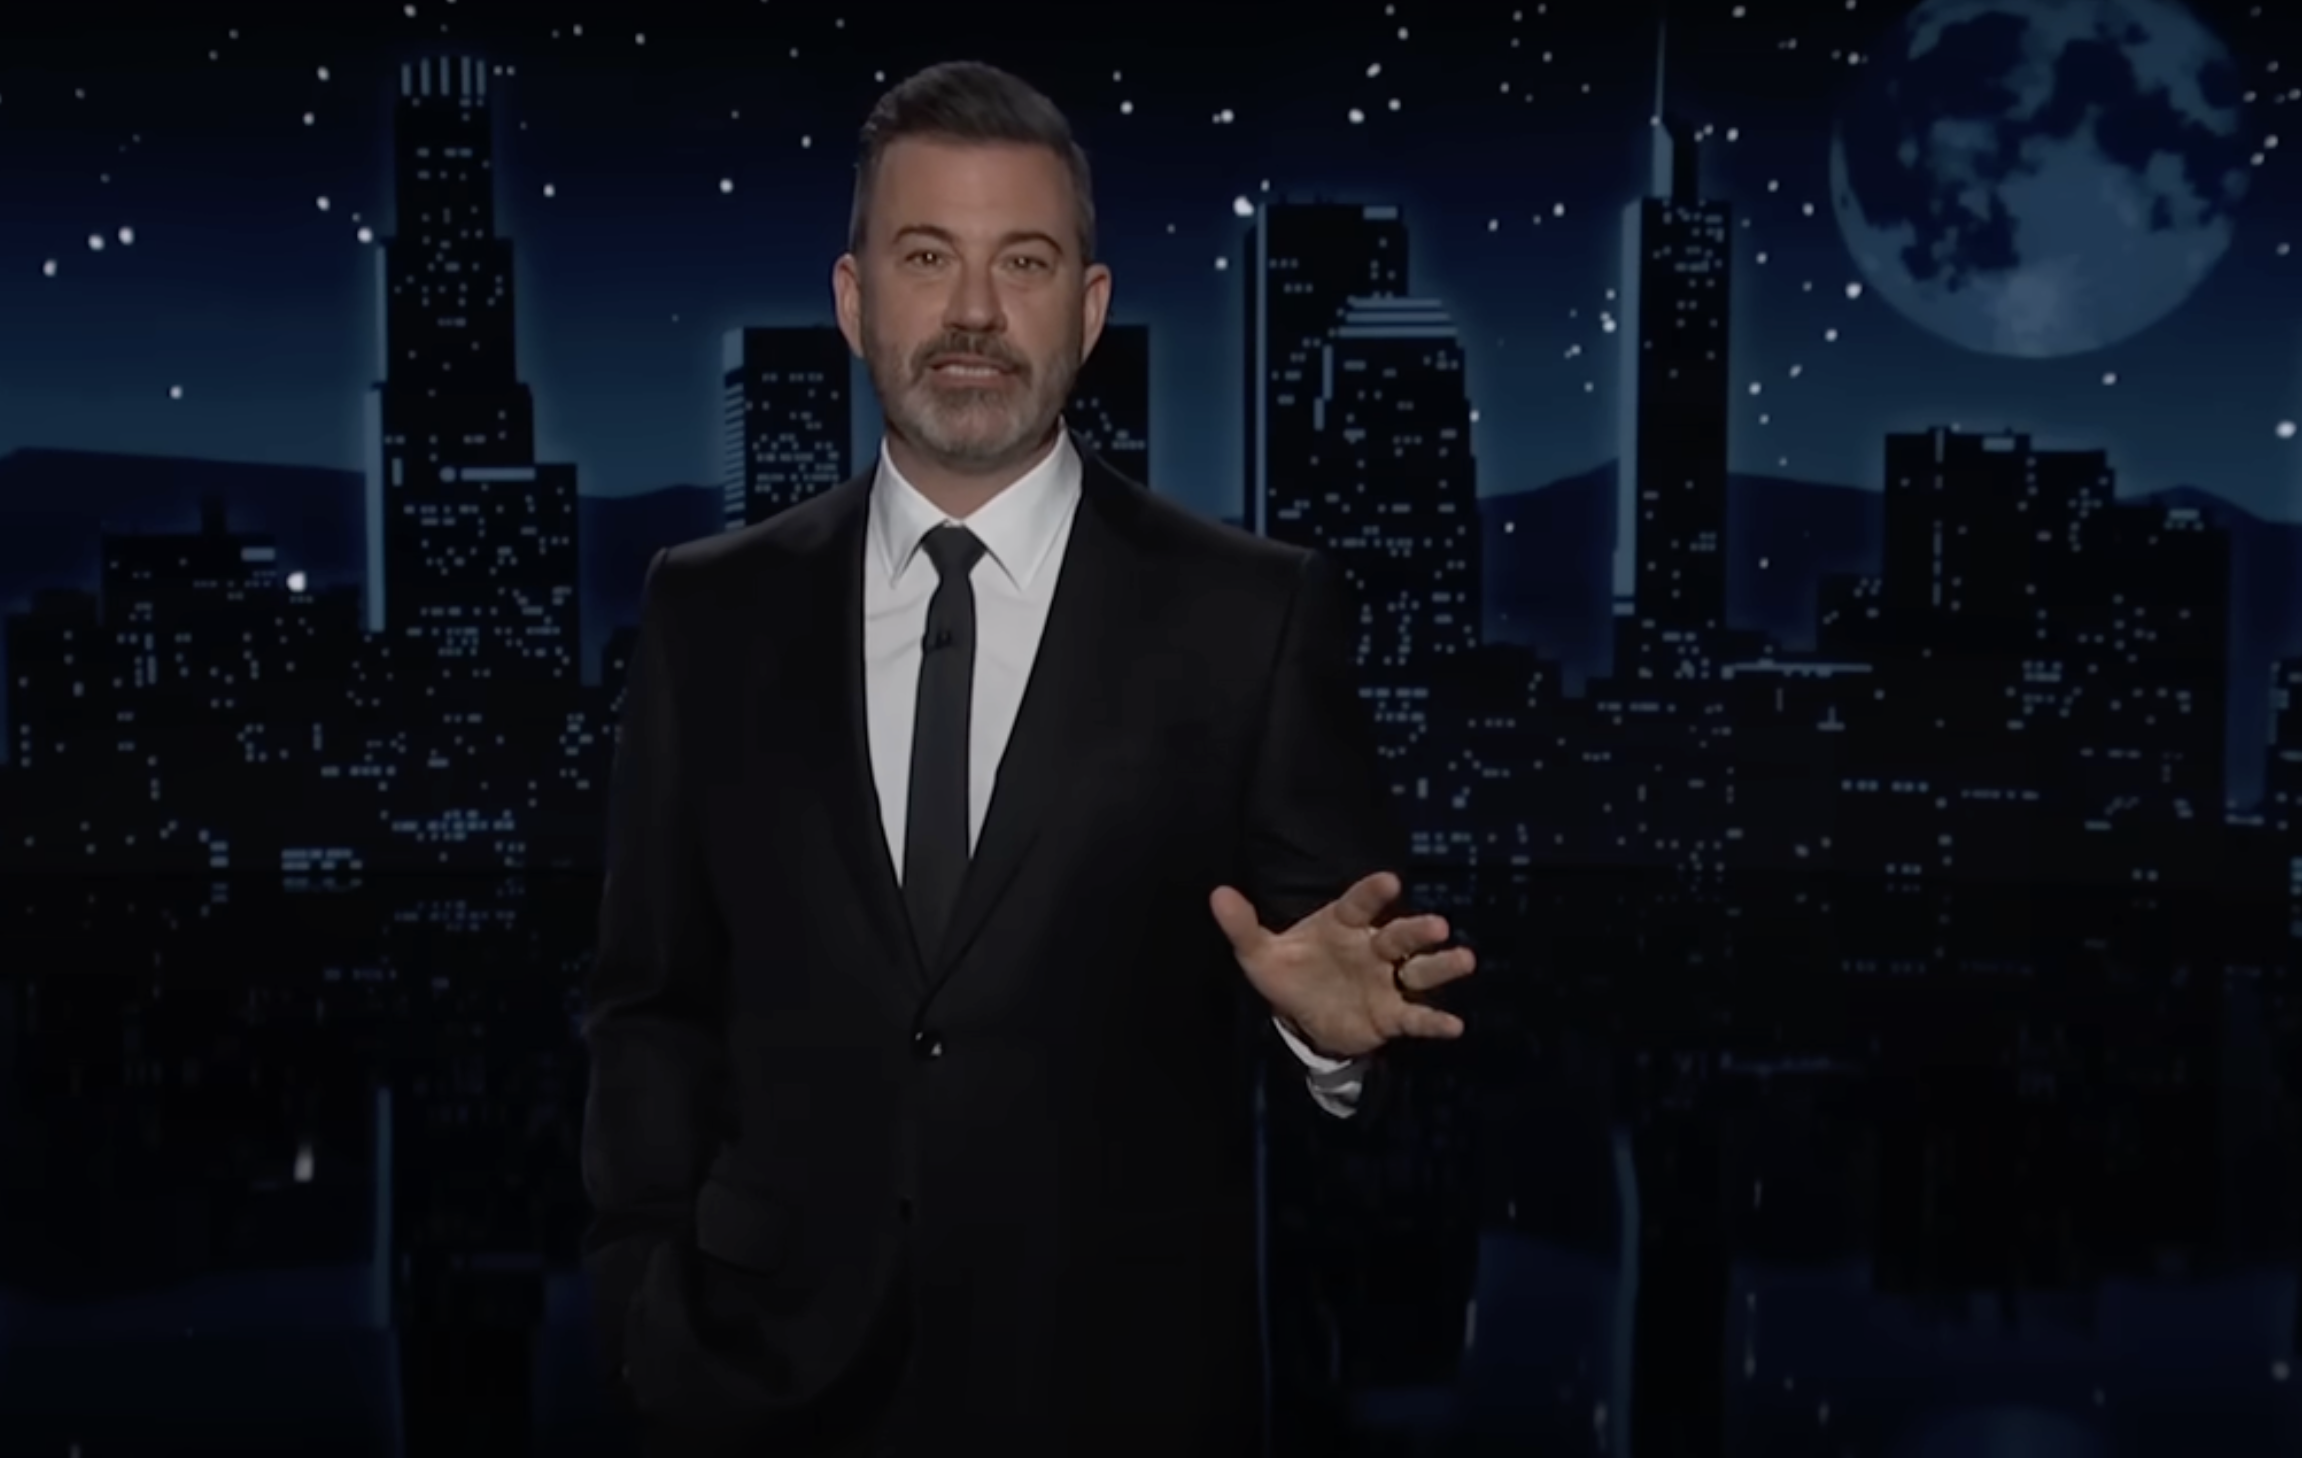person: (573, 58, 1480, 1452)
